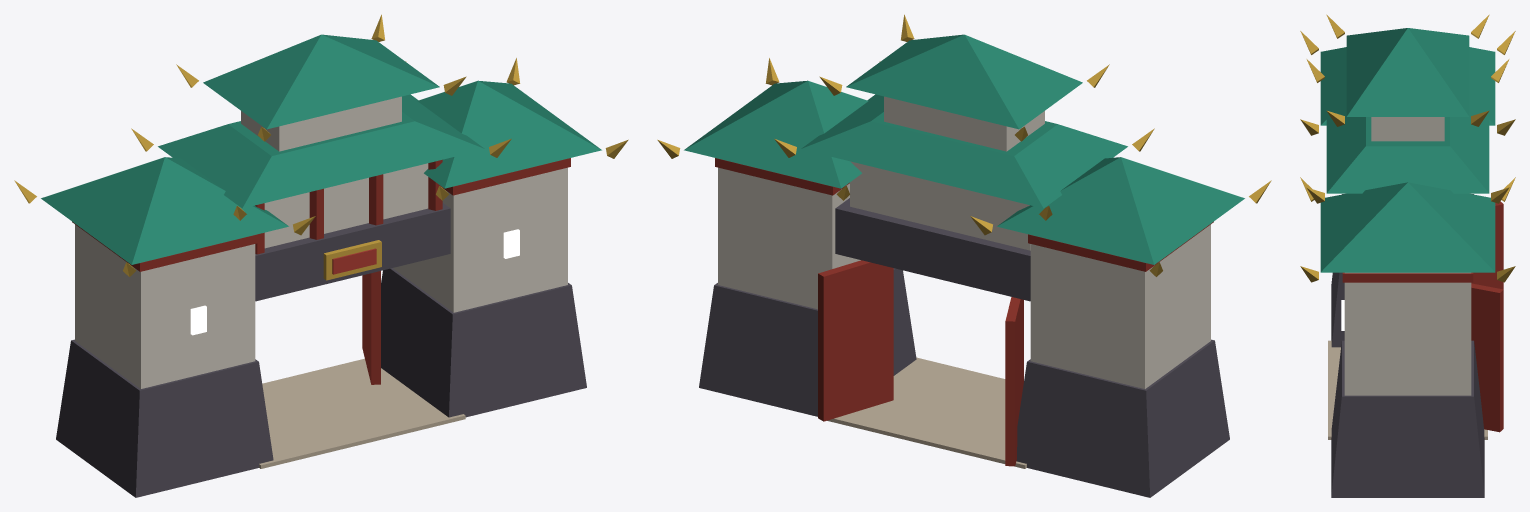
Rendered from gate_t2.glb.
3 views of the same model, side by side, from view 1: azimuth 30°, elevation 25°; view 2: azimuth 150°, elevation 25°; view 3: azimuth 270°, elevation 25° (orthographic). The views are drawn at different scales.
Parts seen in each view (by area): view 1: body, glow; view 2: body; view 3: body.
Part boxes in pixels (x1,y1,x2,y2): body: (14, 14, 628, 497); glow: (190, 229, 519, 335); body: (657, 14, 1271, 497); body: (1300, 14, 1515, 497).
Size of the model in its own units: 4.18 by 3.01 by 1.62.
